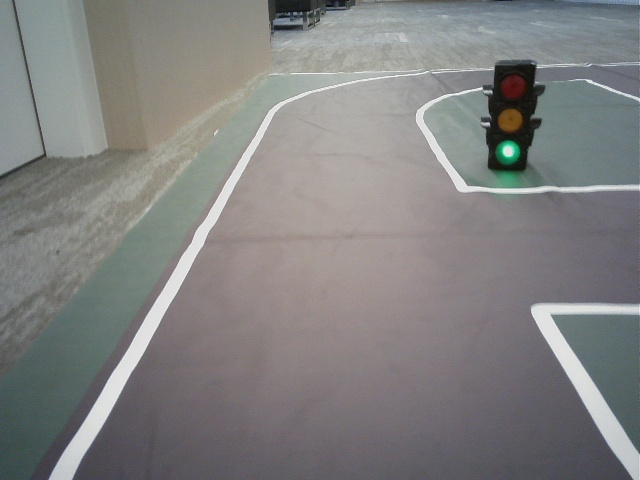green: (491, 69, 530, 164)
